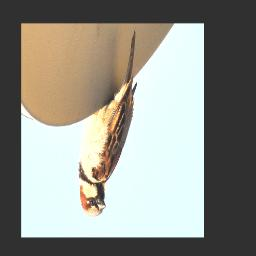Swallow: (77, 29, 137, 217)
